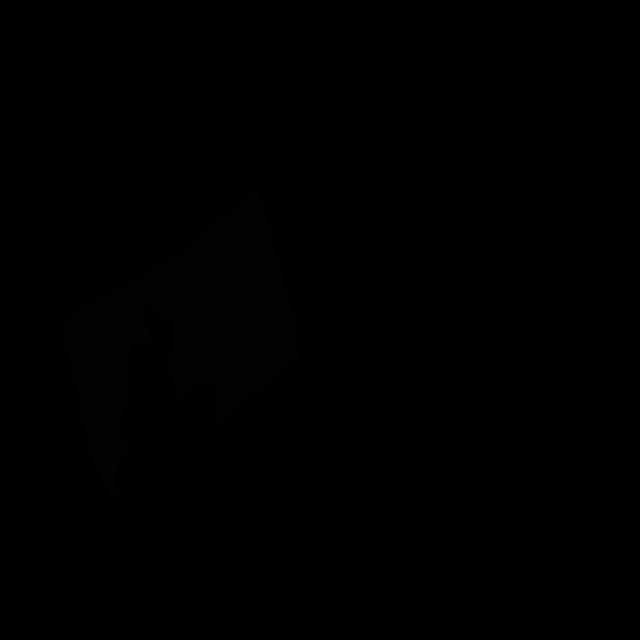cardboard: (63, 188, 300, 501)
